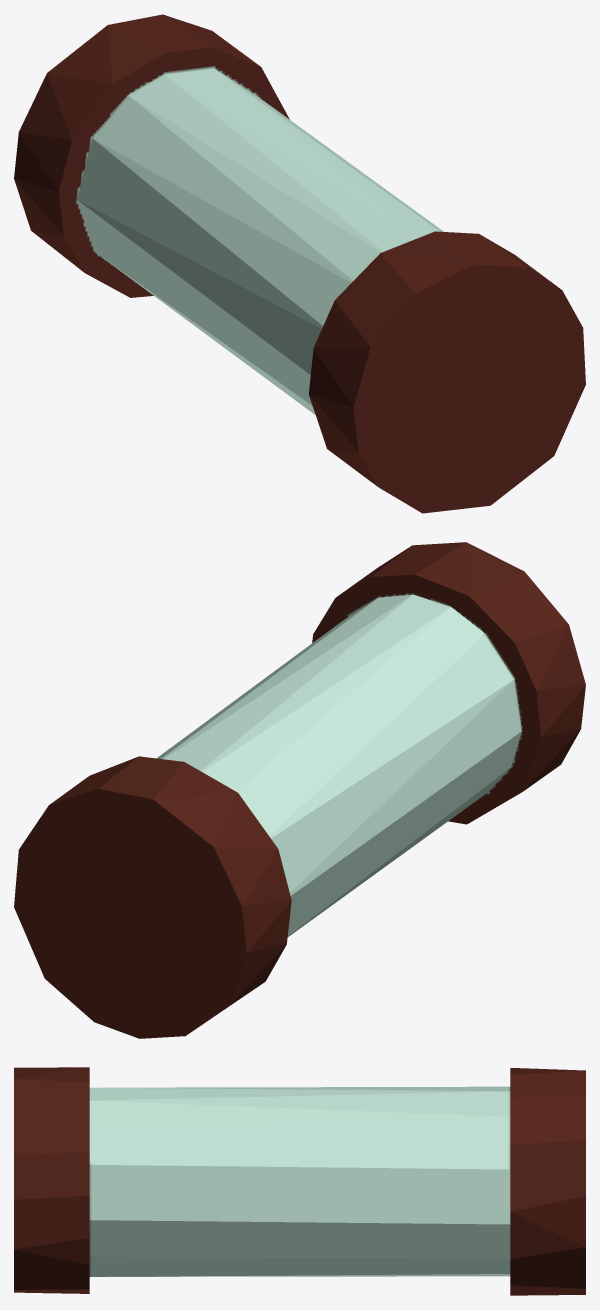
Rendered from Fuse.fbx.
3 renders of one model, top to bottom at view 1: azimuth 30°, elevation 25°; view 2: azimuth 150°, elevation 25°; view 3: azimuth 270°, elevation 25°, orthographic. The views are drawn at different scales.
Visible parts, largest first — view 1: Cylinder.001; view 2: Cylinder.001; view 3: Cylinder.001.
Boxes of the visible parts, bbox=[...] form: Cylinder.001: bbox=[14, 14, 585, 513]; Cylinder.001: bbox=[14, 542, 585, 1038]; Cylinder.001: bbox=[14, 1067, 585, 1295].
Size of the model in its own units: 191 by 192 by 481.
1 material, 1 textured.
